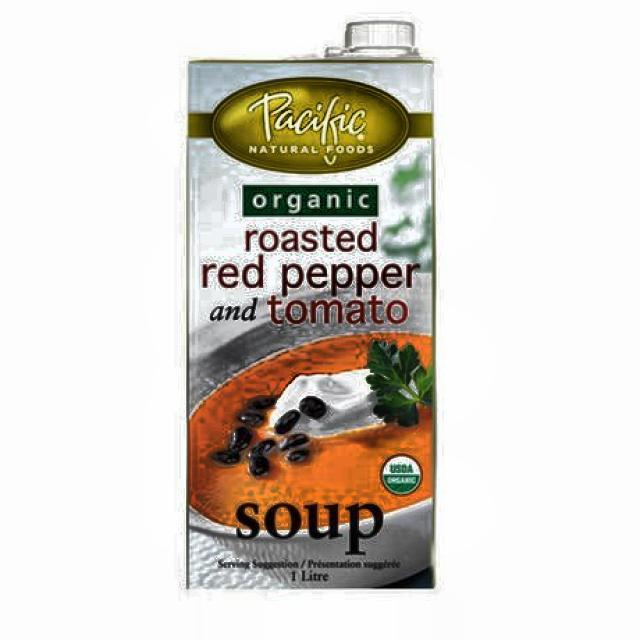cardboard: (185, 43, 436, 589)
